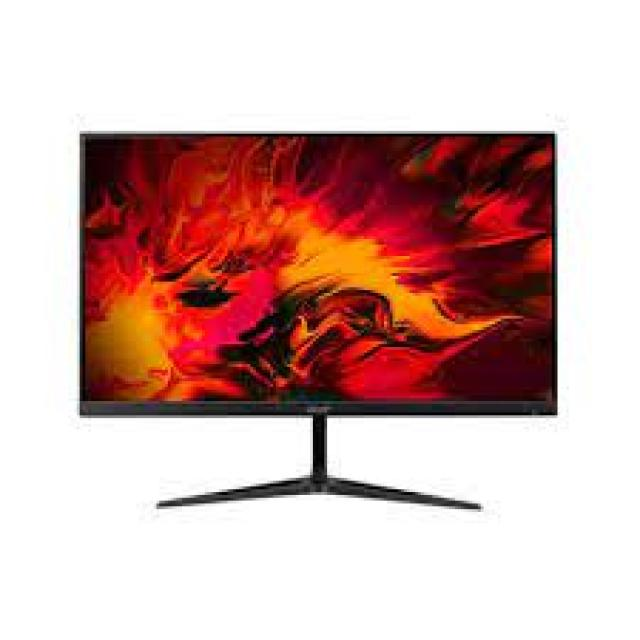monitor: (69, 121, 563, 522)
